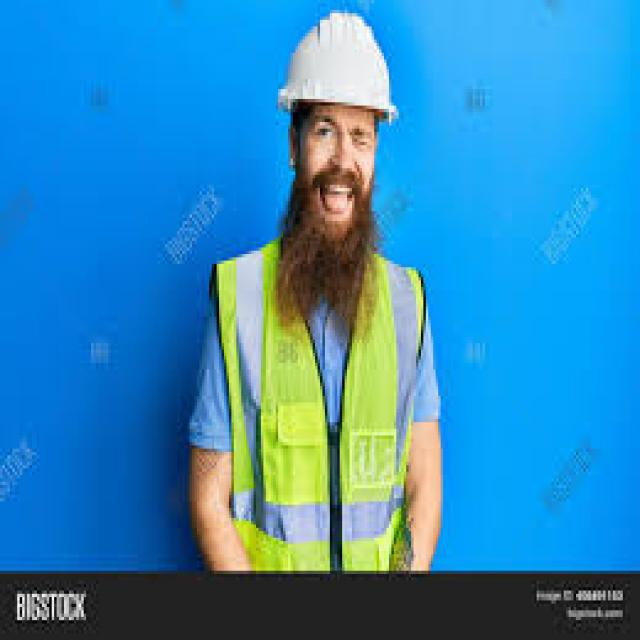Reflective-Jacket: (207, 247, 436, 571)
Safety-Helmet: (276, 10, 396, 125)
